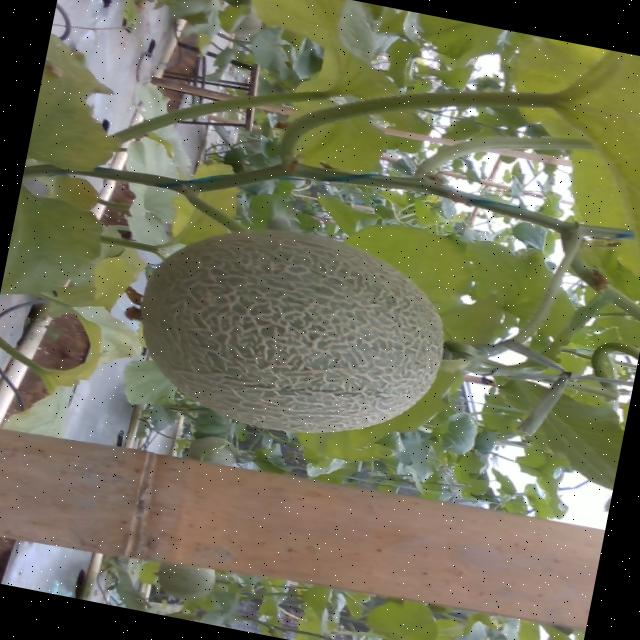melon: (140, 233, 443, 432)
